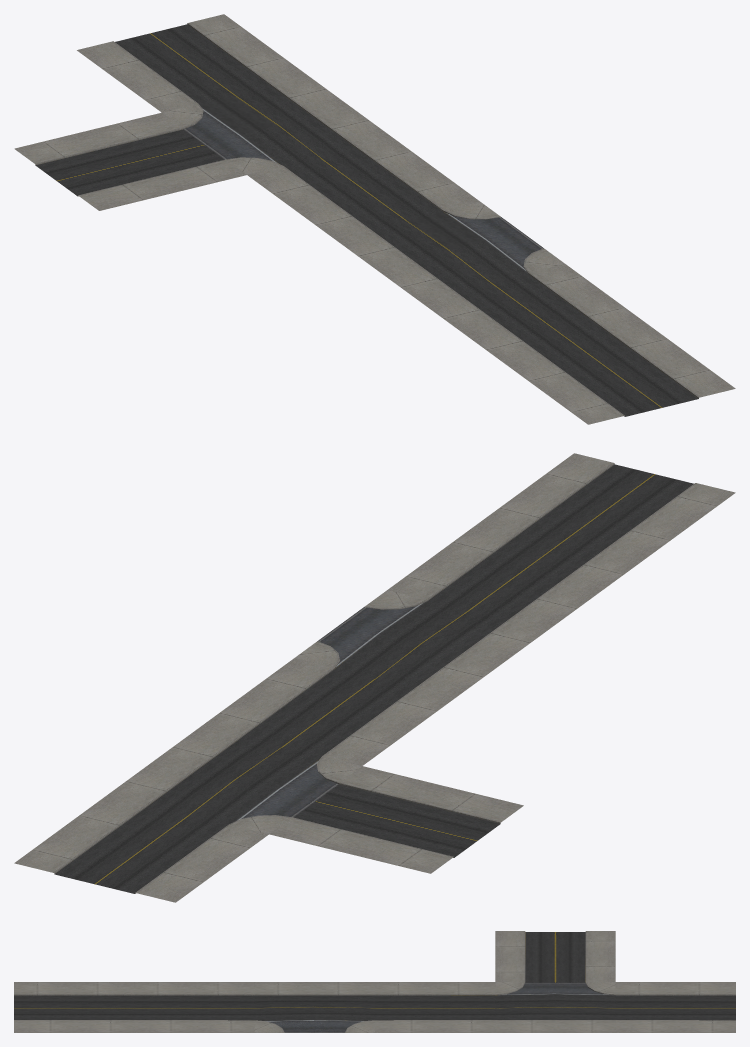
Rendered from vegasnroad06.obj.
The picture shows the model from 3 angles, top to bottom: view 1: azimuth 30°, elevation 25°; view 2: azimuth 150°, elevation 25°; view 3: azimuth 270°, elevation 25°; orthographic projection. The views are drawn at different scales.
Visible parts, largest first — view 1: vegasNroad06; view 2: vegasNroad06; view 3: vegasNroad06.
Boxes of the visible parts, x1=… form: vegasNroad06: x1=14, y1=14, x2=735, y2=424; vegasNroad06: x1=14, y1=453, x2=735, y2=902; vegasNroad06: x1=14, y1=931, x2=735, y2=1032.
Size of the model in its own units: 40.01 by 0.2216 by 120.
Materials: 3 (3 with a texture image).
